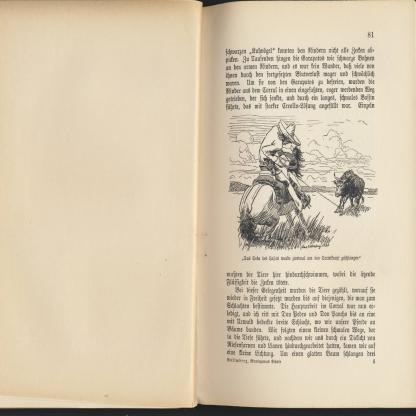book: (0, 0, 416, 410)
